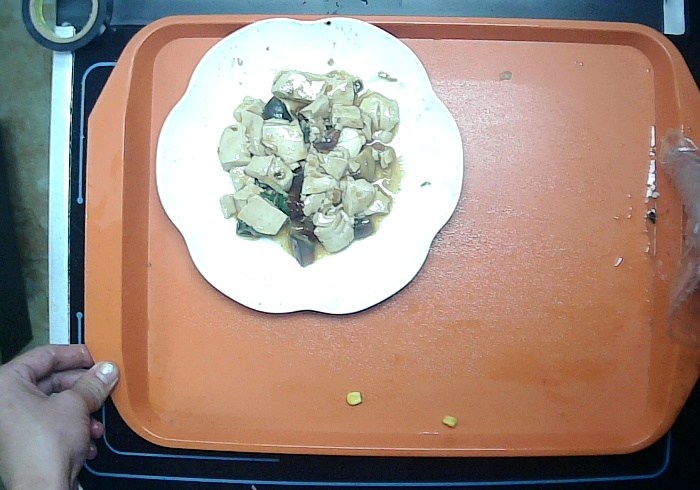HZYJPL-Bai_Se_Hua_Duo_Wan: (144, 1, 484, 340)
